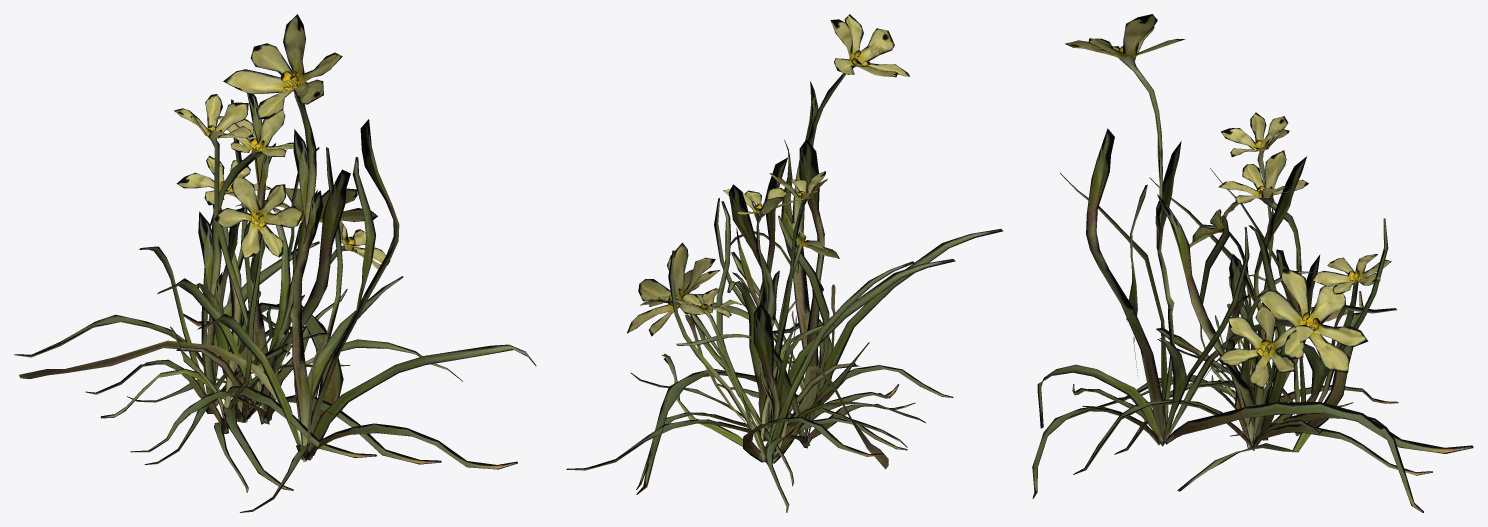
Rendered from flower_empodium.glb.
The picture shows the model from 3 angles, left to right: view 1: azimuth 30°, elevation 25°; view 2: azimuth 150°, elevation 25°; view 3: azimuth 270°, elevation 25°; orthographic projection. The views are drawn at different scales.
Parts seen in each view (by area): view 1: flower_empodium_a_LOD0, flower_empodium_c_LOD0, flower_empodium_b_LOD0, flower_empodium_d_LOD0, flower_empodium_e_LOD0; view 2: flower_empodium_a_LOD0, flower_empodium_c_LOD0, flower_empodium_b_LOD0, flower_empodium_d_LOD0, flower_empodium_e_LOD0; view 3: flower_empodium_a_LOD0, flower_empodium_b_LOD0, flower_empodium_c_LOD0, flower_empodium_d_LOD0, flower_empodium_e_LOD0.
Part boxes in pixels (x1,y1,x2,y2): flower_empodium_a_LOD0: (19, 14, 536, 512); flower_empodium_c_LOD0: (14, 99, 462, 464); flower_empodium_b_LOD0: (127, 93, 441, 464); flower_empodium_d_LOD0: (100, 147, 350, 490); flower_empodium_e_LOD0: (85, 204, 349, 492); flower_empodium_a_LOD0: (627, 14, 1003, 494); flower_empodium_c_LOD0: (662, 188, 914, 464); flower_empodium_b_LOD0: (631, 171, 955, 489); flower_empodium_d_LOD0: (566, 157, 925, 470); flower_empodium_e_LOD0: (676, 215, 915, 512); flower_empodium_a_LOD0: (1032, 14, 1473, 498); flower_empodium_b_LOD0: (1073, 112, 1432, 475); flower_empodium_c_LOD0: (1114, 150, 1391, 491); flower_empodium_d_LOD0: (1082, 194, 1423, 512); flower_empodium_e_LOD0: (1118, 216, 1398, 436).
Bounding box in the file's own units: 0.2174 × 0.2671 × 0.2508.
Materials: 1 (1 with a texture image).
